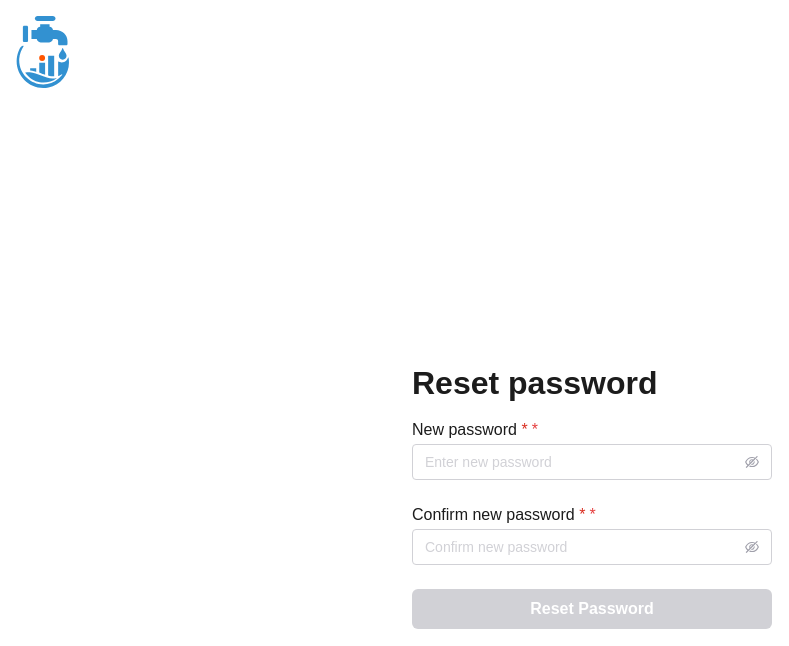
Test: ResetPasswordPage — with token › submit button is enabled when passwords match
In the password field with placeholder "Enter new password": (592, 462) [412, 444, 772, 480], type "New-test-pw1"
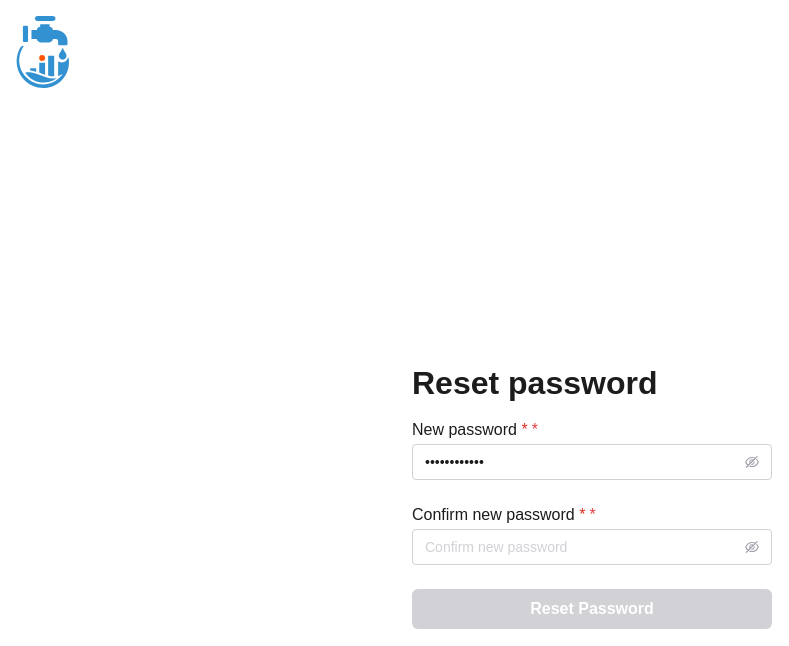
In the password field with placeholder "Confirm new password": (592, 547) [412, 529, 772, 565], type "New-test-pw1"
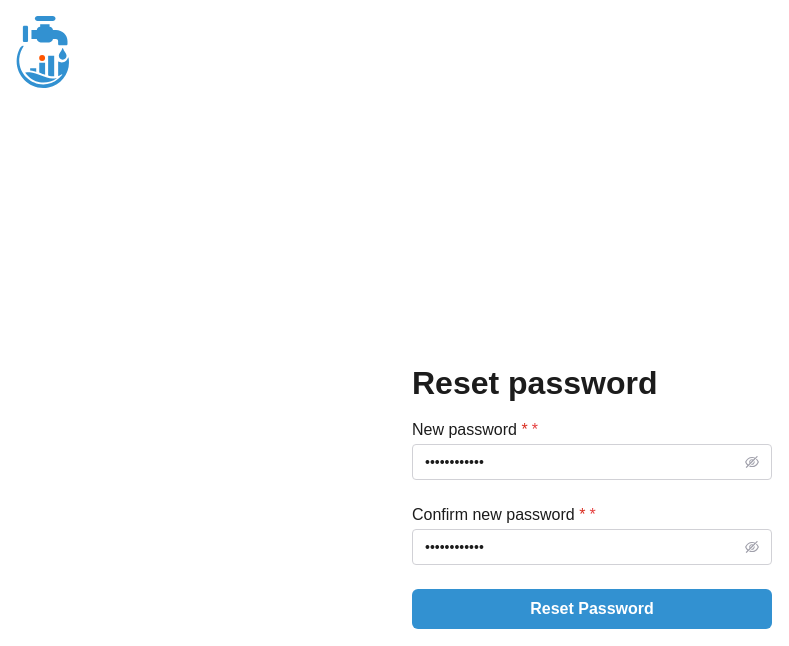
Check: the button "Reset Password" is enabled, box [412, 589, 772, 629]
